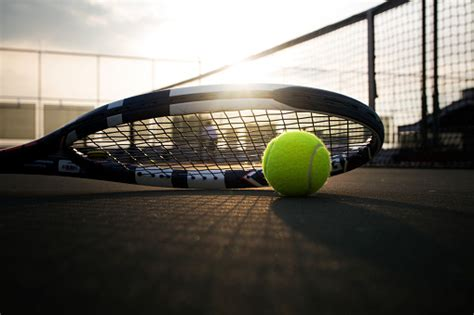tennis_ball: (261, 129, 332, 198)
